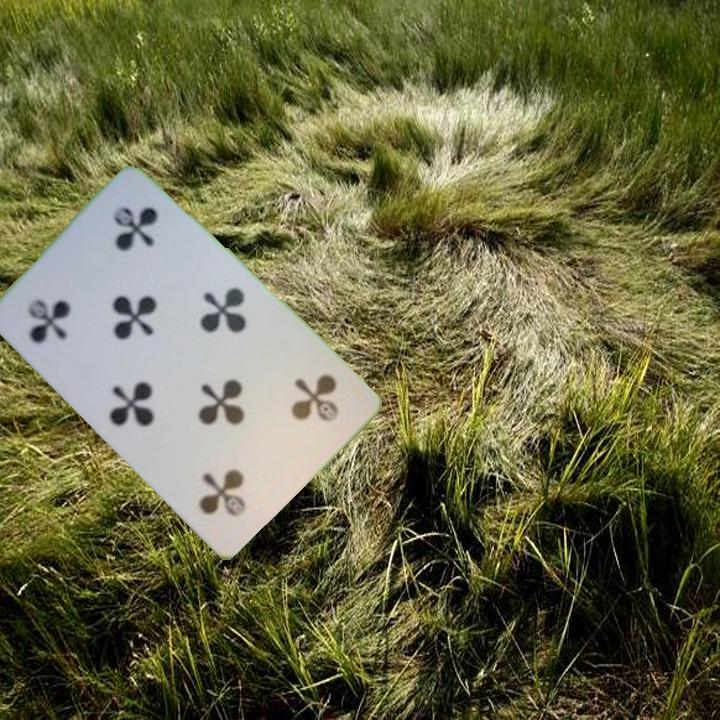c_8.png: (1, 242, 130, 371), (234, 344, 363, 473)
